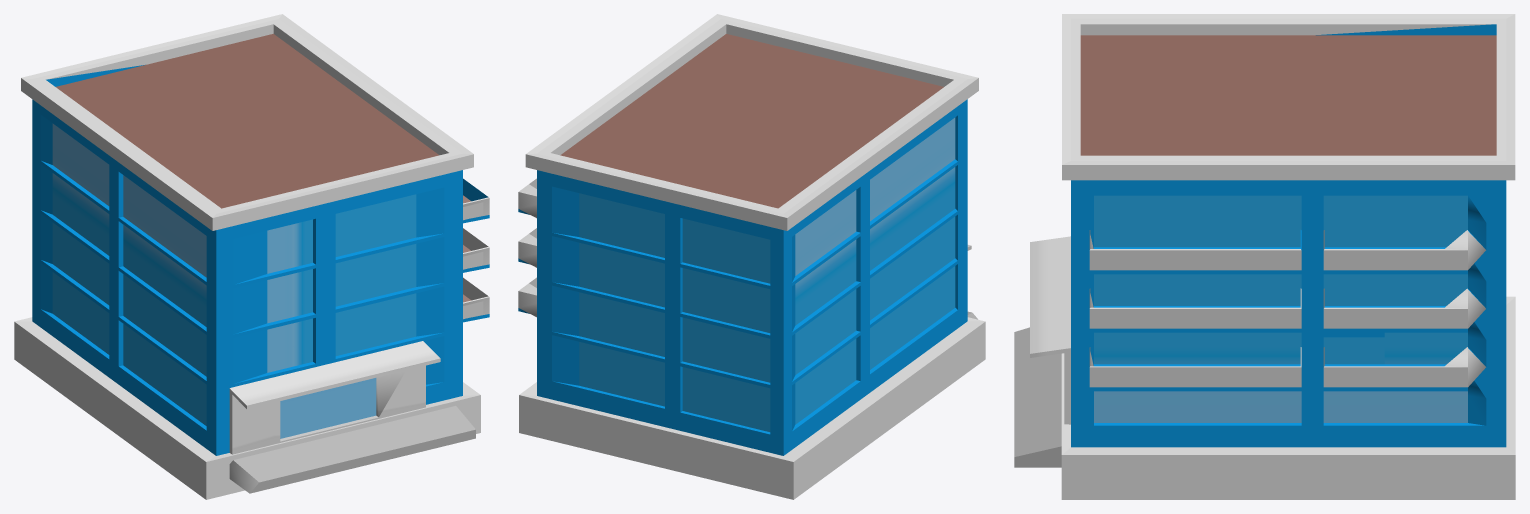
The model's file is BlueBuilding6x8x7.fbx.
3 renders of one model, left to right at view 1: azimuth 30°, elevation 25°; view 2: azimuth 150°, elevation 25°; view 3: azimuth 270°, elevation 25°, orthographic. The views are drawn at different scales.
Parts seen in each view (by area): view 1: House; view 2: House; view 3: House.
Part boxes in pixels (box(x1,y1,x2,y2)): House: box(14, 14, 489, 499); House: box(518, 14, 985, 499); House: box(1014, 14, 1515, 499).
Bounding box in the file's own units: 7.82 × 7.09 × 9.73.
Materials: 1 (1 with a texture image).
